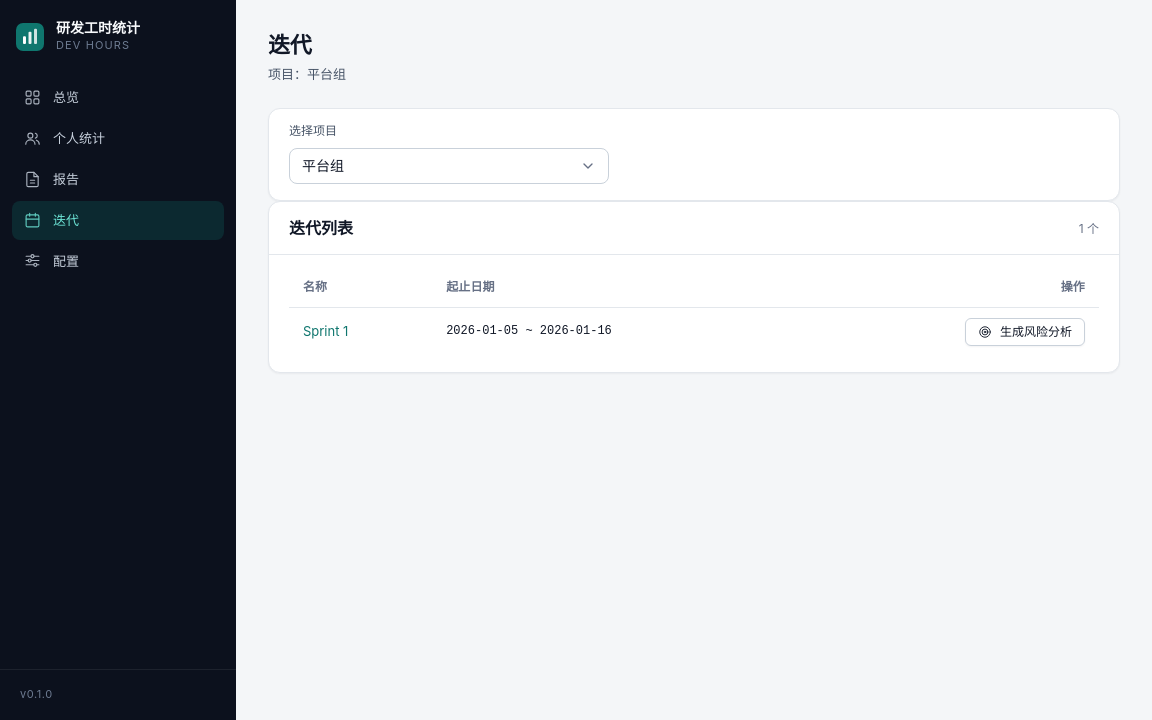
it: IterationListPage › 切换项目选择器后按新的 project_id 重新请求迭代列表
Check: the link "Sprint 1" is shown, box [303,323,348,339]
// 切换到第二个项目 → 重新请求 /api/projects/2/iterations
Select "数据组" in the dropdown named "select-project-iteration": coordinates (449, 166) [289,148,609,184]
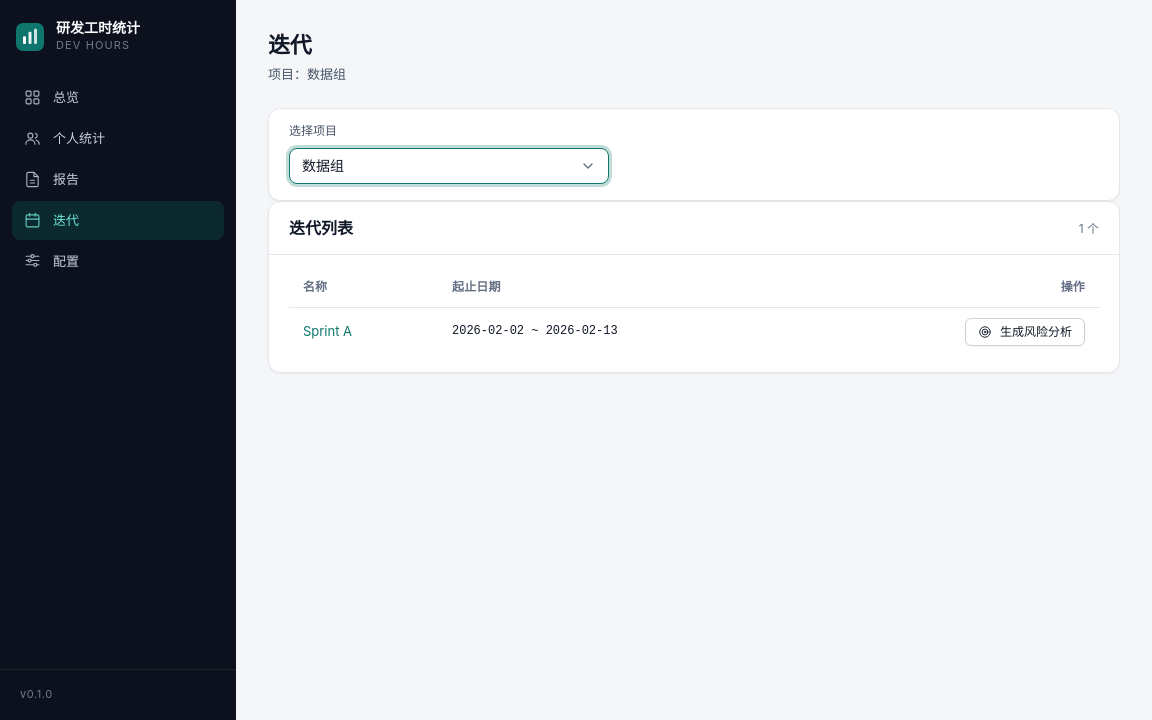
Check: the link "Sprint A" is shown, box [303,323,352,339]
Check: the link "Sprint 1" is gone
